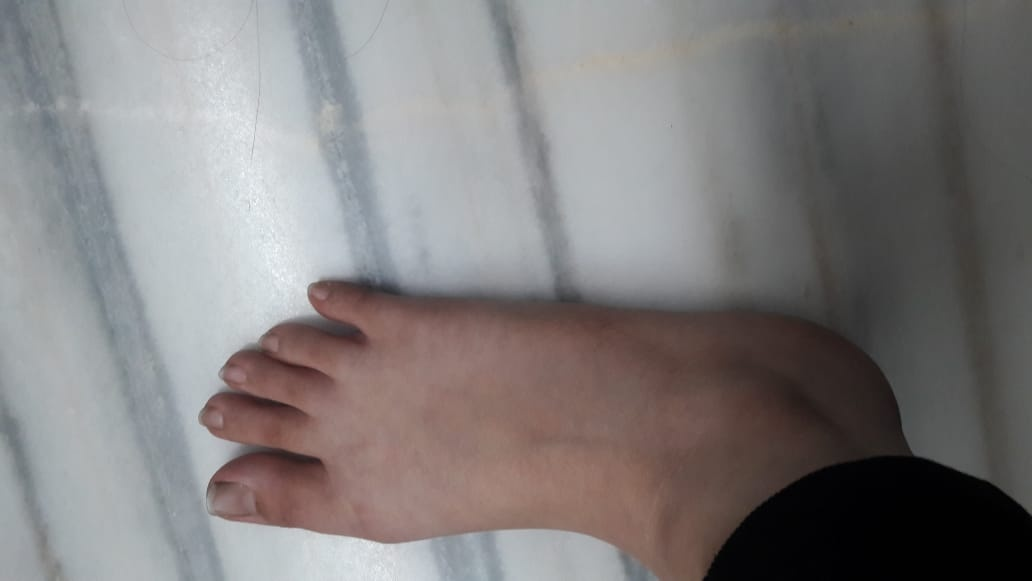feet: (163, 224, 923, 545)
